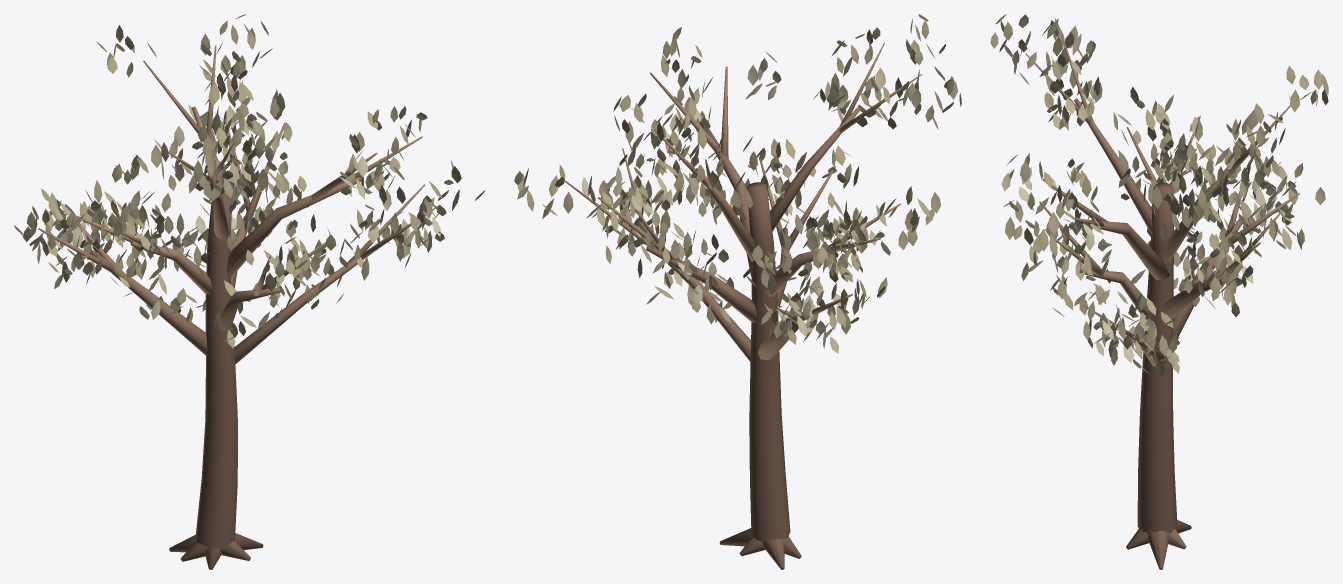
File: tree_3d_05_golden_beige.glb
The picture shows the model from 3 angles, left to right: view 1: azimuth 30°, elevation 25°; view 2: azimuth 150°, elevation 25°; view 3: azimuth 270°, elevation 25°; orthographic projection. The views are drawn at different scales.
Visible parts, largest first — view 1: tree_3d_05_golden_beige_foliage, tree_3d_05_golden_beige_wood; view 2: tree_3d_05_golden_beige_foliage, tree_3d_05_golden_beige_wood; view 3: tree_3d_05_golden_beige_foliage, tree_3d_05_golden_beige_wood.
Boxes of the visible parts, x1,y1,x2,y2 form: tree_3d_05_golden_beige_foliage: (14, 14, 485, 348); tree_3d_05_golden_beige_wood: (38, 45, 439, 569); tree_3d_05_golden_beige_foliage: (514, 14, 961, 353); tree_3d_05_golden_beige_wood: (565, 42, 922, 569); tree_3d_05_golden_beige_foliage: (990, 14, 1328, 376); tree_3d_05_golden_beige_wood: (1026, 35, 1299, 569).
Bounding box in the file's own units: 14.15 × 16.36 × 10.07.
